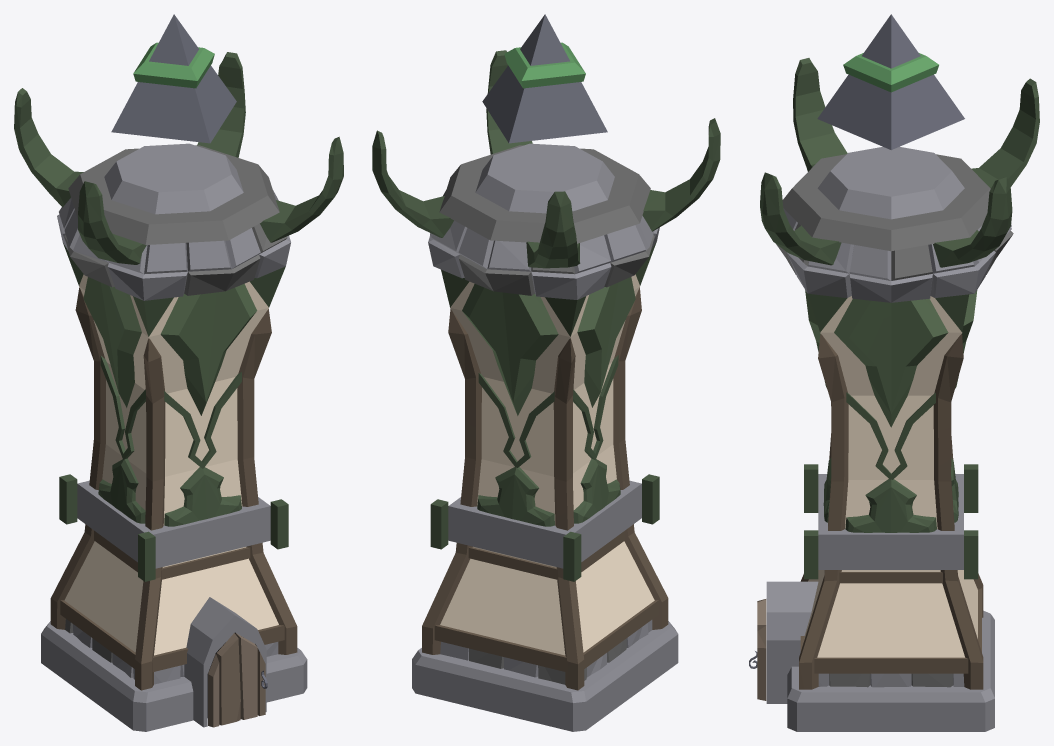
Rendered from _Poison_tower_LVL_3.fbx.
3 renders of one model, left to right at view 1: azimuth 30°, elevation 25°; view 2: azimuth 150°, elevation 25°; view 3: azimuth 270°, elevation 25°, orthographic.
Parts seen in each view (by area): view 1: Poison_tower_LVL_3; view 2: Poison_tower_LVL_3; view 3: Poison_tower_LVL_3.
Part boxes in pixels (box(x1,y1,x2,y2)): Poison_tower_LVL_3: box(14, 14, 343, 731); Poison_tower_LVL_3: box(372, 14, 720, 731); Poison_tower_LVL_3: box(749, 14, 1039, 731).
Bounding box in the file's own units: 610 × 1528 × 597.
